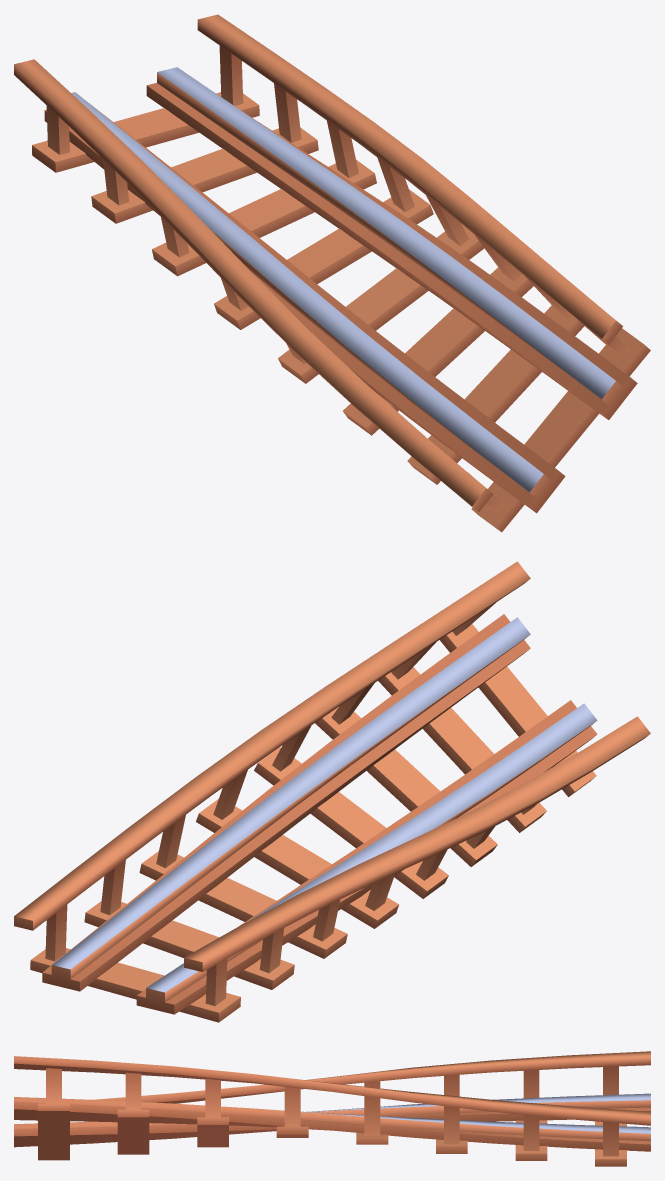
The model's file is coaster-wood-straight-skew-right.glb.
The picture shows the model from 3 angles, top to bottom: view 1: azimuth 30°, elevation 25°; view 2: azimuth 150°, elevation 25°; view 3: azimuth 270°, elevation 25°; orthographic projection. The views are drawn at different scales.
Visible parts, largest first — view 1: coaster-wood-straight-skew-right; view 2: coaster-wood-straight-skew-right; view 3: coaster-wood-straight-skew-right.
Boxes of the visible parts, bbox=[...] form: coaster-wood-straight-skew-right: bbox=[14, 14, 650, 532]; coaster-wood-straight-skew-right: bbox=[14, 561, 650, 1022]; coaster-wood-straight-skew-right: bbox=[14, 1051, 650, 1166].
Bounding box in the file's own units: 1.09 × 0.9434 × 4.
Materials: 1 (1 with a texture image).
